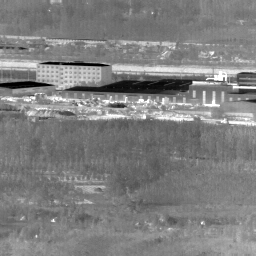aircraft: (84, 46, 86, 48)
